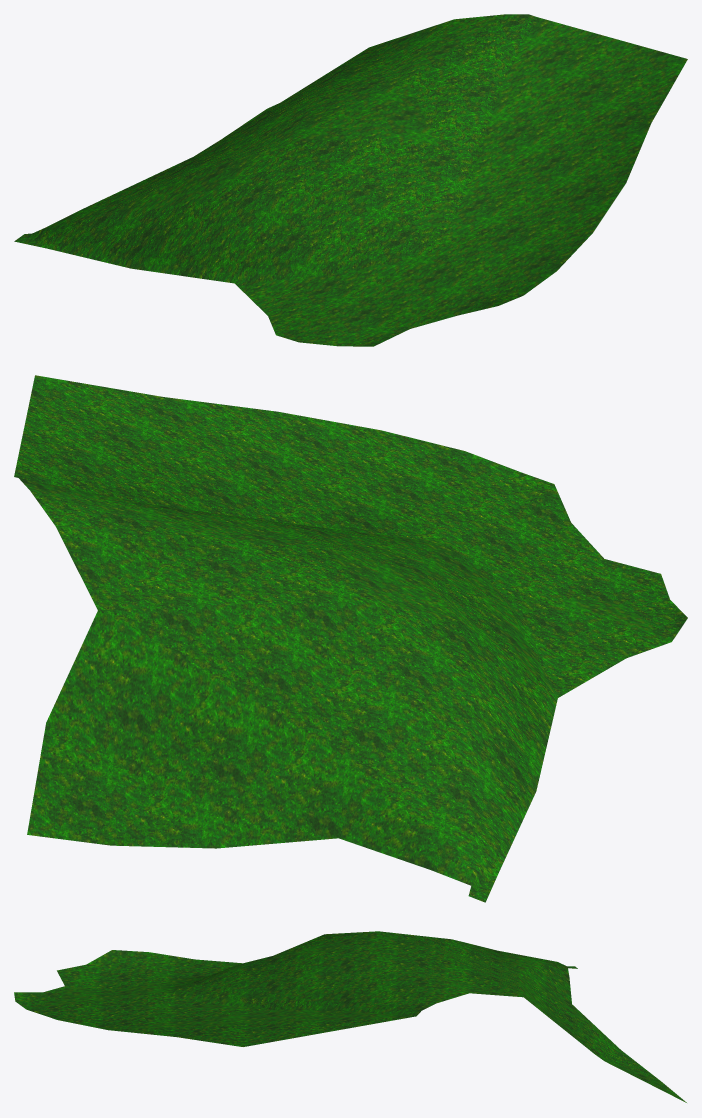
Rendered from HTOWN01_PS25.fbx.
3 renders of one model, top to bottom at view 1: azimuth 30°, elevation 25°; view 2: azimuth 150°, elevation 25°; view 3: azimuth 270°, elevation 25°, orthographic. The views are drawn at different scales.
Visible parts, largest first — view 1: HTOWN01_PS25; view 2: HTOWN01_PS25; view 3: HTOWN01_PS25.
Part boxes in pixels (bbox=[...]): HTOWN01_PS25: bbox=[14, 14, 687, 346]; HTOWN01_PS25: bbox=[14, 375, 687, 902]; HTOWN01_PS25: bbox=[14, 931, 686, 1102].
Size of the model in its own units: 172885 by 55739 by 188315.
Materials: 2 (2 with a texture image).
